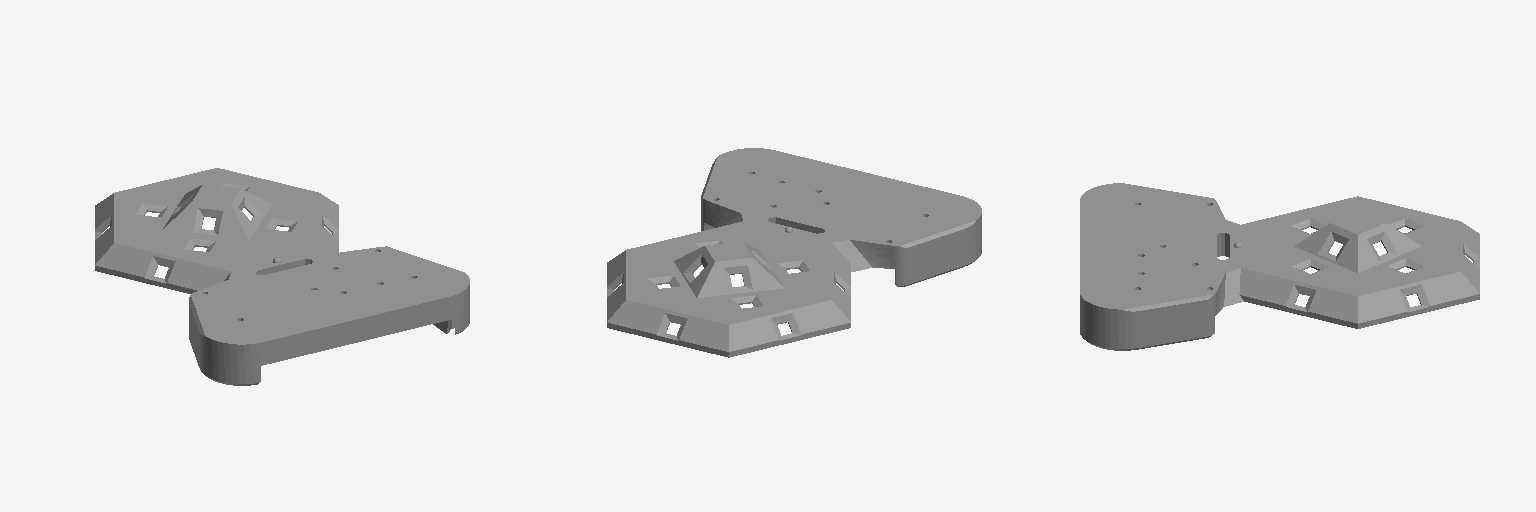
Rendered from class_ufo.obj.
3 renders of one model, left to right at view 1: azimuth 30°, elevation 25°; view 2: azimuth 150°, elevation 25°; view 3: azimuth 270°, elevation 25°, orthographic.
Parts seen in each view (by area): view 1: Class_Ufo_Render; view 2: Class_Ufo_Render; view 3: Class_Ufo_Render.
Boxes of the visible parts, x1=… form: Class_Ufo_Render: x1=95, y1=168, x2=469, y2=385; Class_Ufo_Render: x1=607, y1=148, x2=981, y2=357; Class_Ufo_Render: x1=1080, y1=183, x2=1479, y2=350.
Size of the model in its own units: 0.14 by 0.034 by 0.1872.